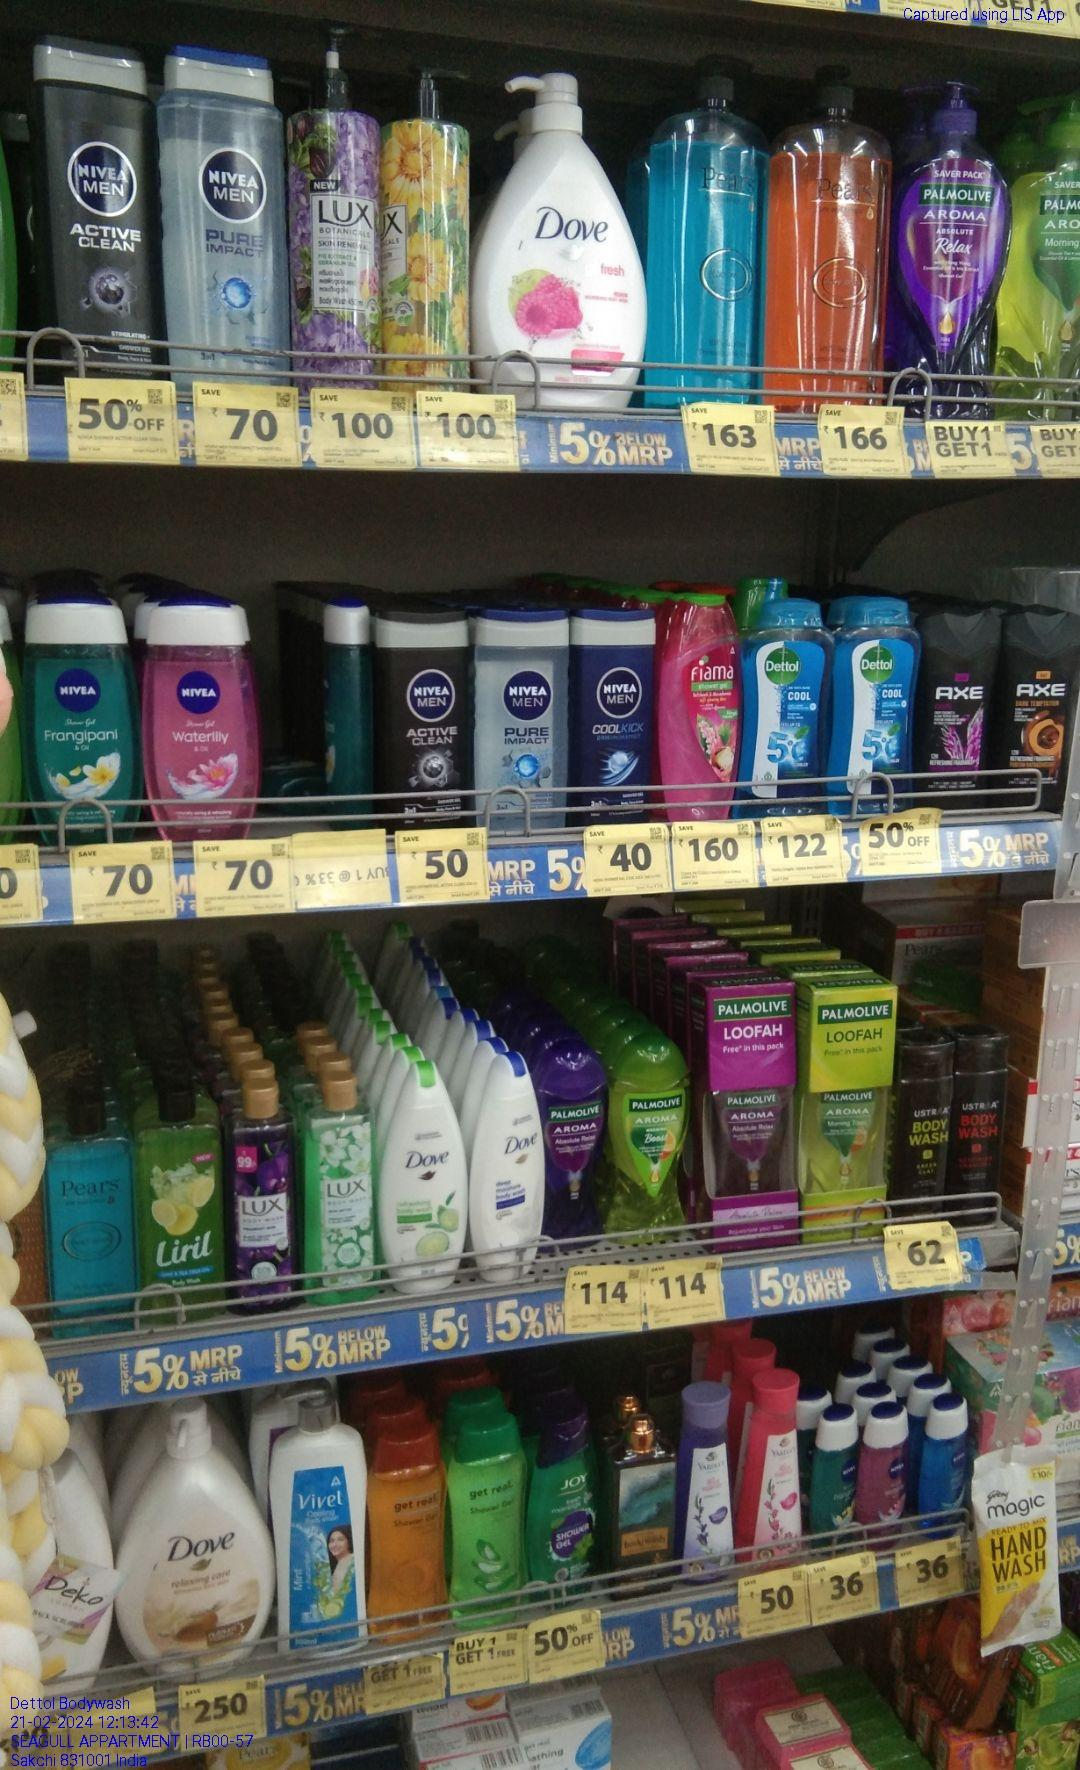Dettol_Bodywash_Cool: (826, 593, 919, 814), (739, 595, 822, 809)
Dove_Deep_Moisture_Body_Wash_250ML: (470, 1049, 545, 1285)
Dove_Refreshing_Body_Wash_250ML: (381, 1057, 469, 1295)
Fiama_Shower_Gel_Patchouli_and_Macadamia_250ML: (661, 590, 739, 821)
Get_Real_Shower_Gel_Moisturising_Glycerin_300ML: (364, 1420, 446, 1647)
Joy_Shower_Gel_Mint_and_Eucalyptus_250ML: (527, 1400, 601, 1613)
Liril_Lime_and_Tea_Tree_Oil_Body_Wash_250ML: (134, 1082, 224, 1327)
Lux_Black_Orchid_Scent_and_Juniper_Oil_Body_Wash_245ML: (223, 1075, 297, 1315)
Lux_Body_Wash_Skin_Detox_Freesia_Scent_and_Alove_Vera_245ML: (296, 1070, 381, 1307)
Nivea_Shower_Gel_Frangipani_and_Oil_250ML: (18, 590, 138, 845)
Nivea_Shower_Gel_Waterlily_and_Oil_250ML: (135, 593, 262, 843)
Palmolive_Aroma_Morning_Tonic_Shower_Gel_250ML: (608, 1034, 694, 1240)
Palmolive_Aroma_Relax_250ML: (545, 1039, 606, 1253)
Pears_Pure_Glycerin_and_Mint_Extracts_Body_Wash_250ML: (46, 1091, 134, 1340)
